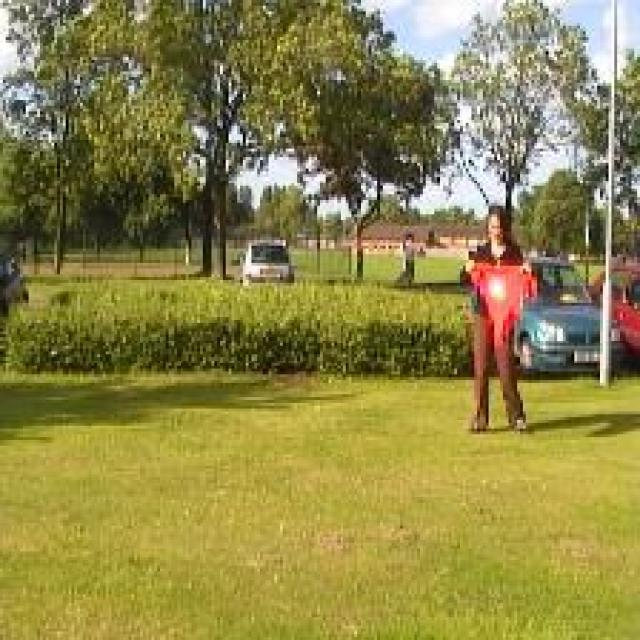other: (454, 249, 542, 341)
